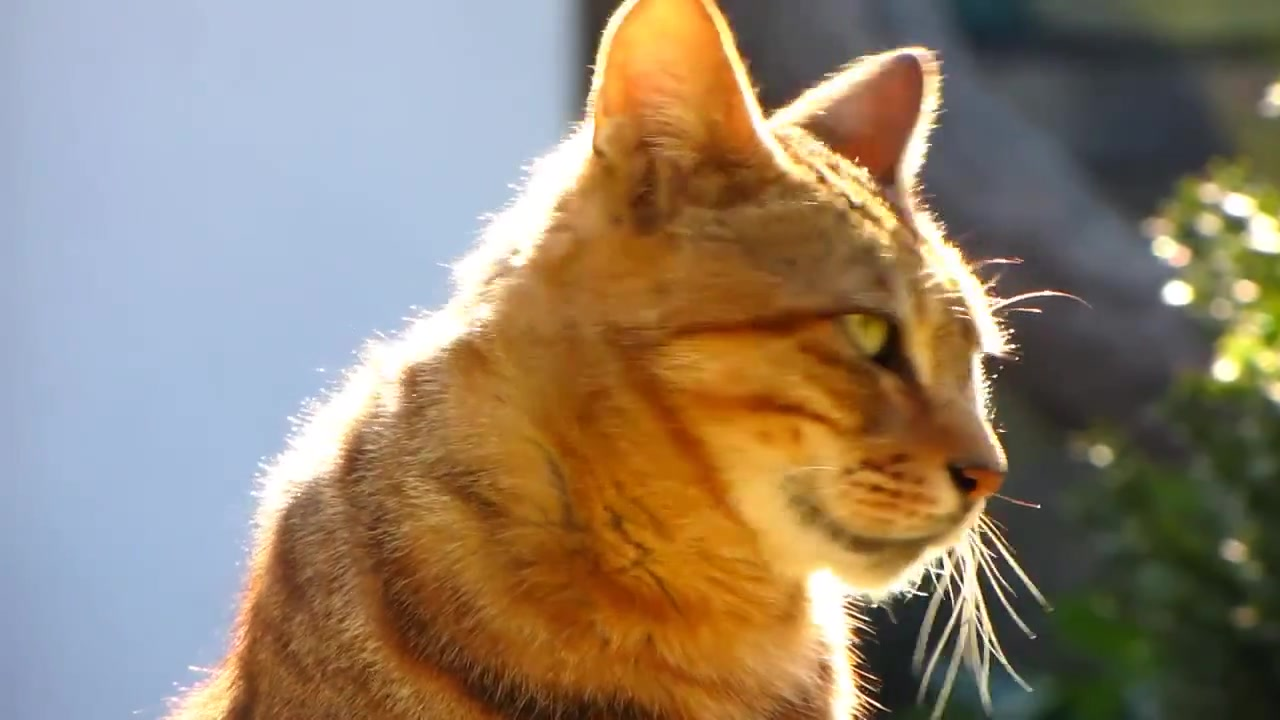cat: (173, 1, 1006, 720)
